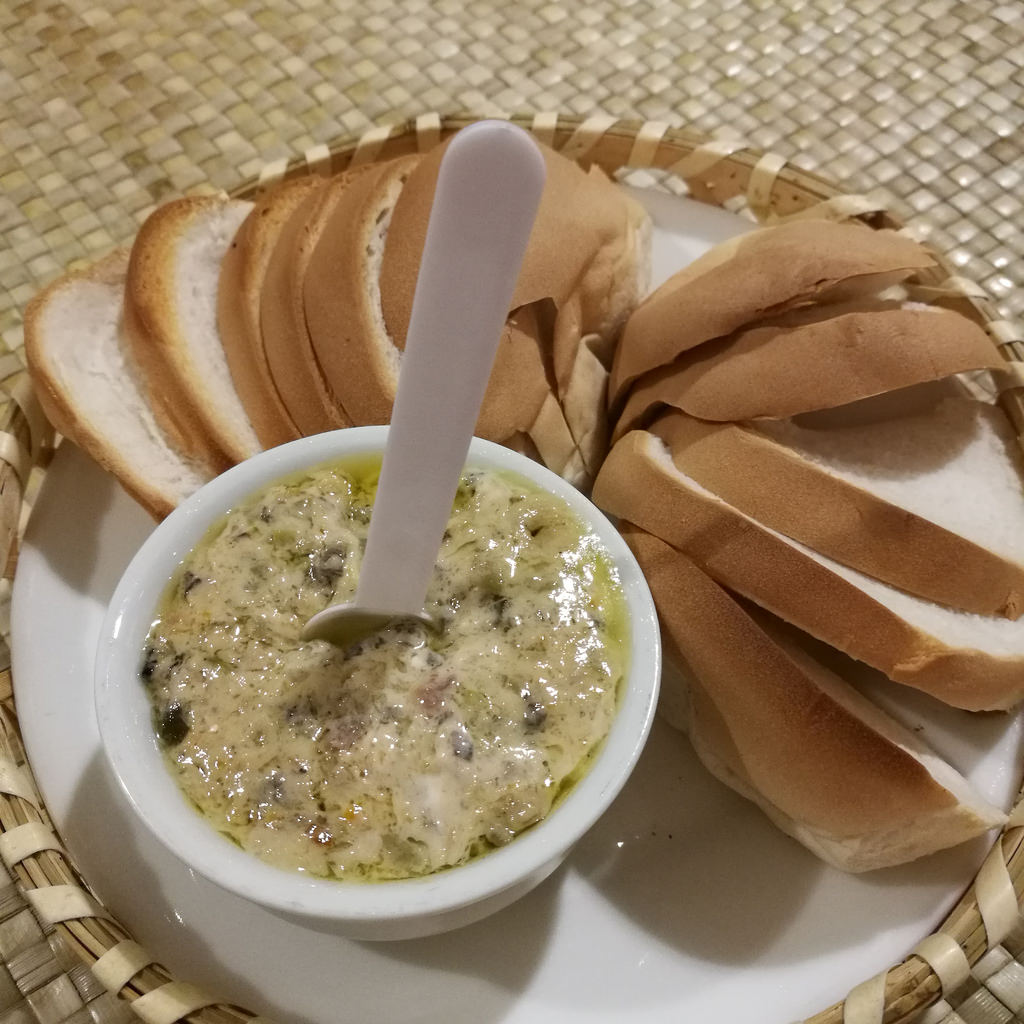slice of bread: (637, 276, 999, 853)
